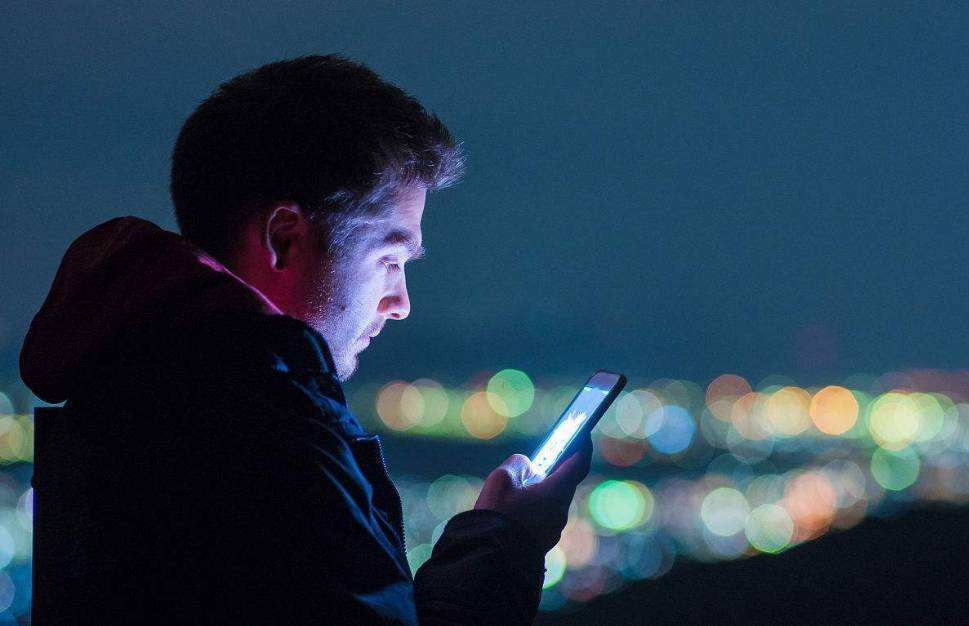reading: (466, 361, 627, 549)
